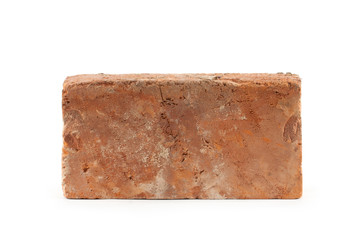brick: (65, 75, 302, 198)
